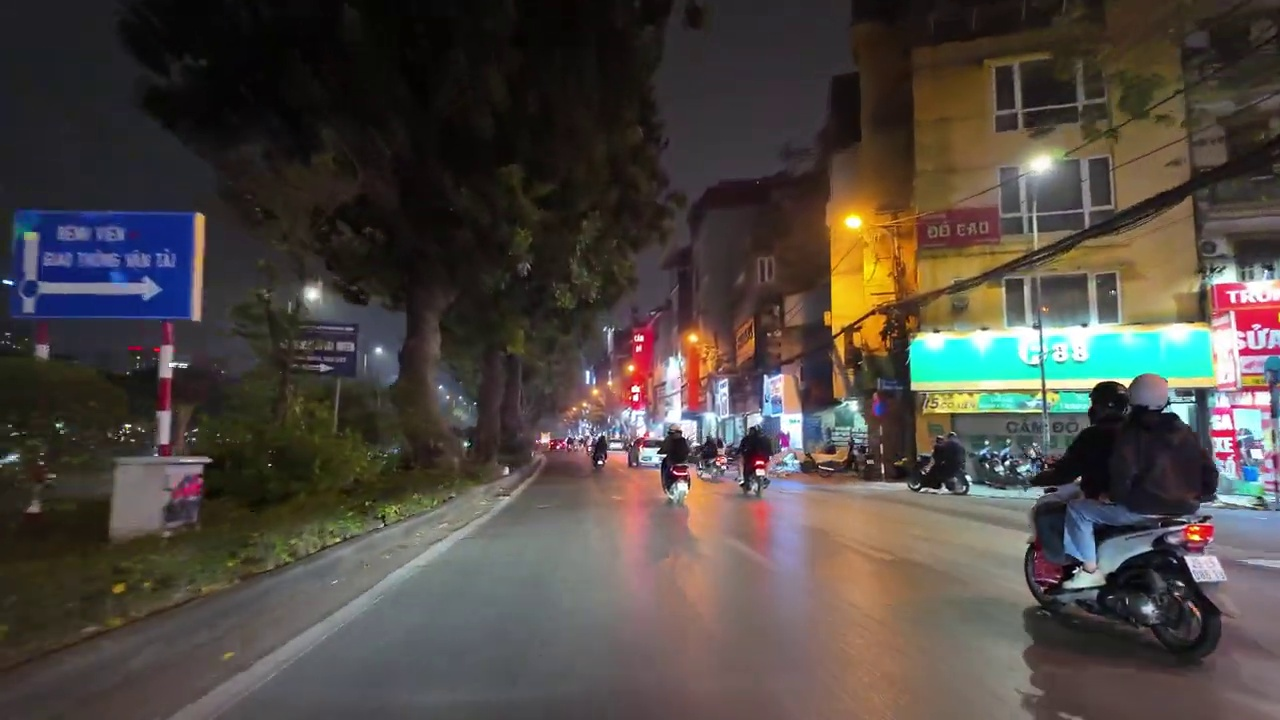acesa: (834, 206, 874, 241)
